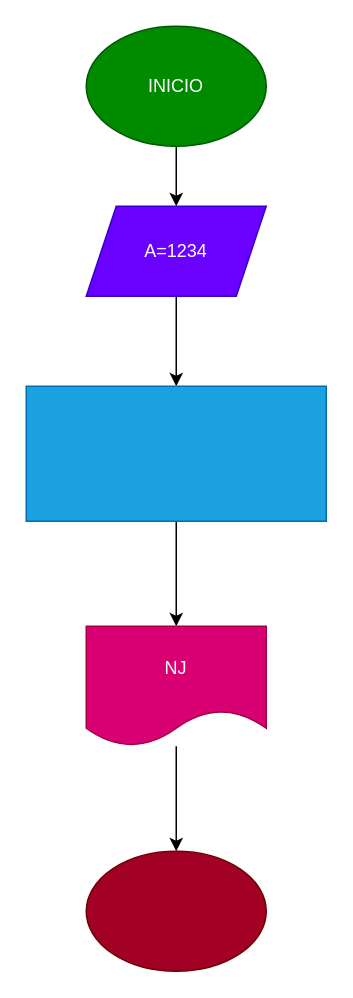
The diagram is 353 pixels wide and 998 high, and some of its shapes have lost their labels. Here are the shapes that lost their labels. From the top down, the centre of each, then its label:
At point 175,453: "c4, pe, c3, pe, c2 , c1, pe nj = c4 + c3 + c2 + c1".
At point 175,910: "FIN".
